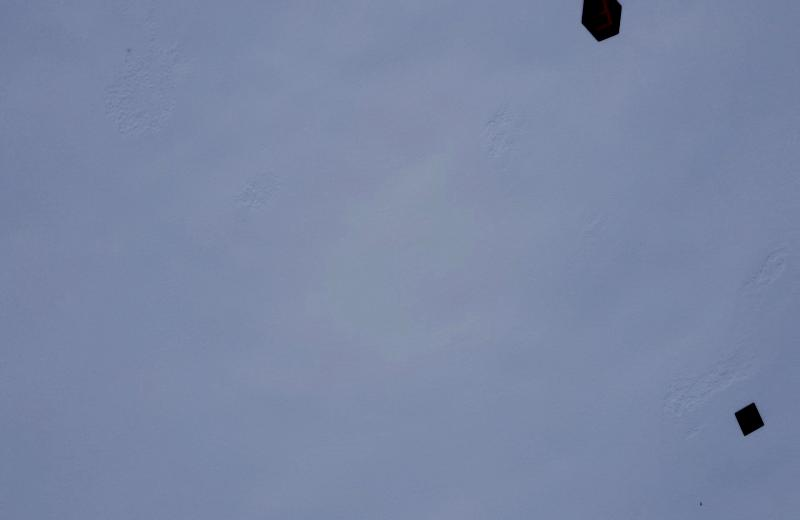Hexagon: (581, 0, 624, 41)
Square: (734, 399, 766, 436)
